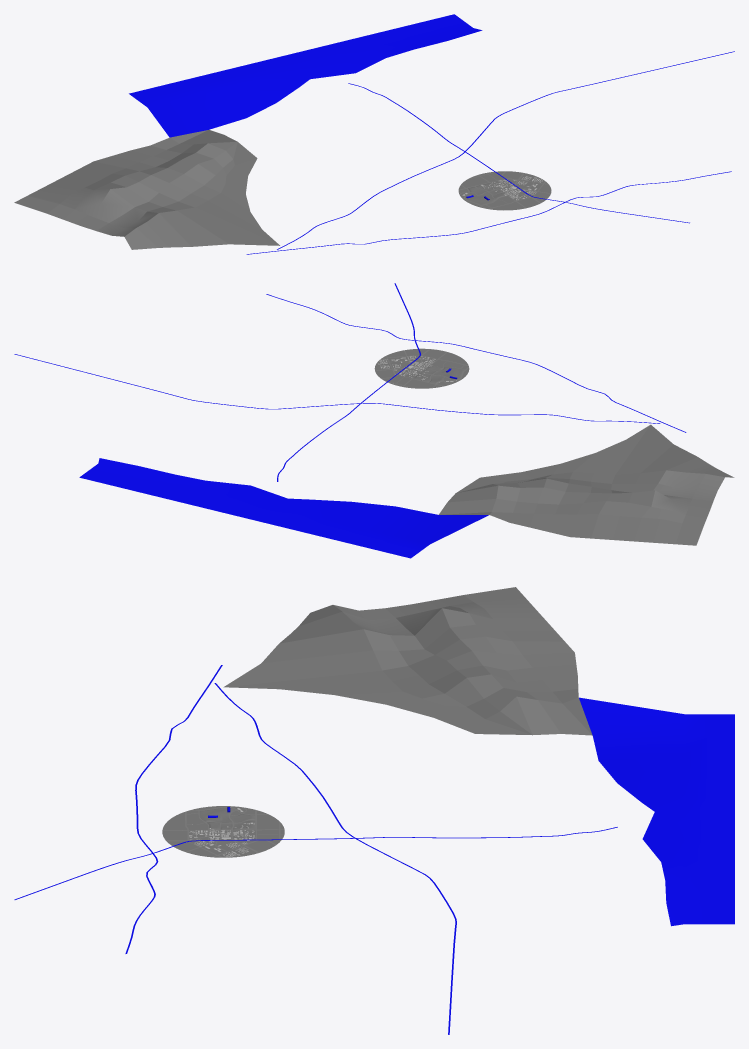
The model's file is airSpace_15.glb.
The picture shows the model from 3 angles, top to bottom: view 1: azimuth 30°, elevation 25°; view 2: azimuth 150°, elevation 25°; view 3: azimuth 270°, elevation 25°; orthographic projection. The views are drawn at different scales.
Visible parts, largest first — view 1: mountain, ocean, lots, STREETS, fwy_405, fwy_5, fwy_55; view 2: mountain, ocean, lots, fwy_405, STREETS, fwy_5; view 3: mountain, ocean, lots, STREETS, fwy_405, fwy_55.
Part boxes in pixels (x1,y1,x2,y2): mountain: (14, 130, 279, 249); ocean: (129, 14, 482, 137); lots: (458, 171, 551, 210); STREETS: (458, 171, 550, 209); fwy_405: (277, 51, 734, 249); fwy_5: (246, 171, 731, 254); fwy_55: (348, 83, 689, 223); mountain: (439, 424, 734, 545); ocean: (79, 458, 488, 558); lots: (374, 348, 469, 388); fwy_405: (14, 354, 660, 423); STREETS: (375, 349, 468, 388); fwy_5: (266, 294, 686, 432); mountain: (223, 587, 592, 735); ocean: (579, 697, 734, 926); lots: (163, 806, 284, 857); STREETS: (162, 806, 284, 857); fwy_405: (214, 683, 456, 1034); fwy_55: (14, 827, 617, 899).
Size of the model in its own units: 12132 by 341 by 8251.
